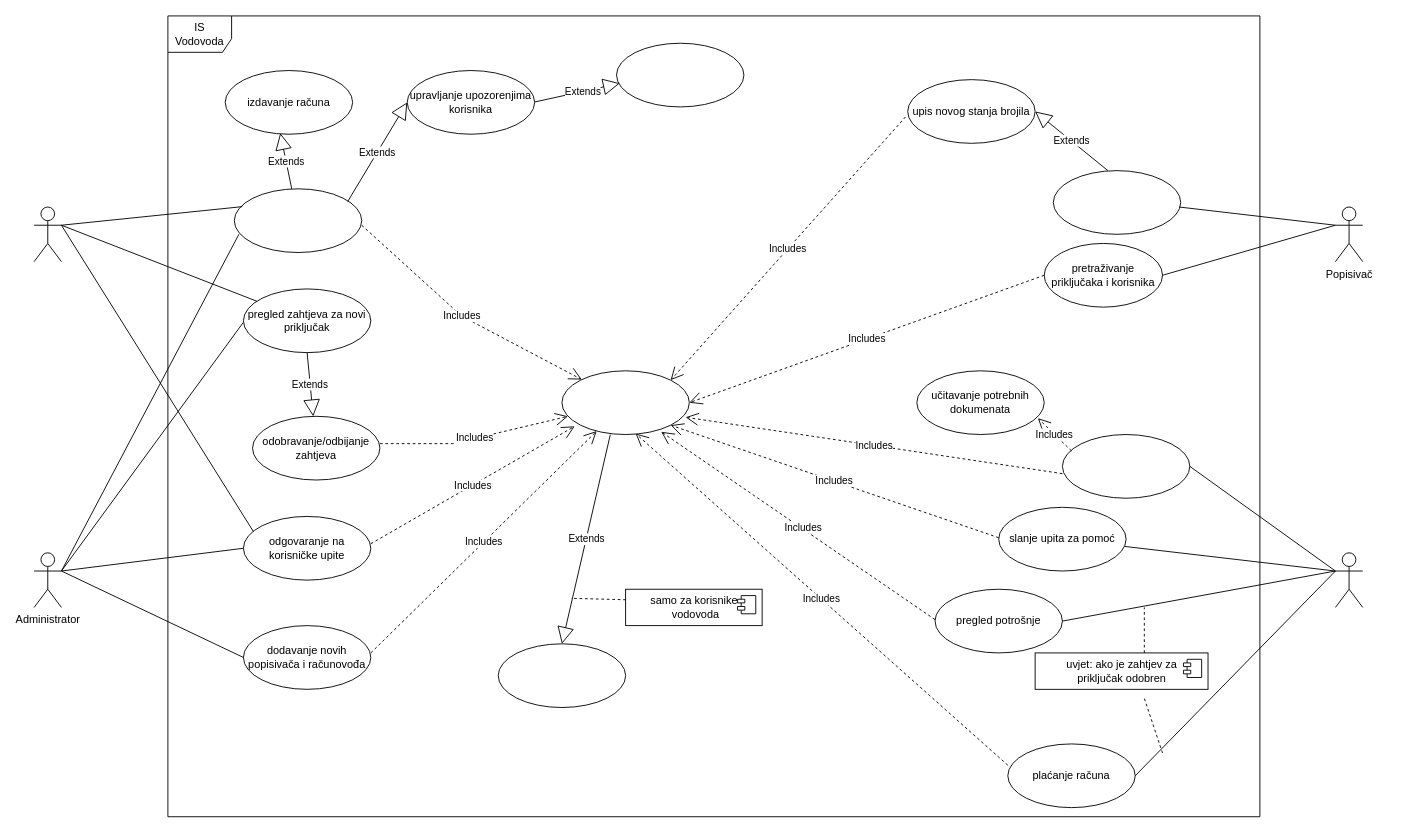
Image size: 1410x833. Some labels were removed from this diagram. Each missing label, with the centre of its shape:
"Korisnik vodovoda" belongs at point (1349, 579).
"pregled korisnika i podataka o potrošnji i računima" belongs at point (297, 220).
"pregled stanja brojila pojedinog priključka" belongs at point (1116, 202).
"prijava u sustav" belongs at point (625, 402).
"Računovođa" belongs at point (47, 234).
"registracija kao novi korisnik" belongs at point (561, 675).
"suspendiranje korisnika" belongs at point (680, 74).
"zahtjev za novi priključak" belongs at point (1126, 466).
